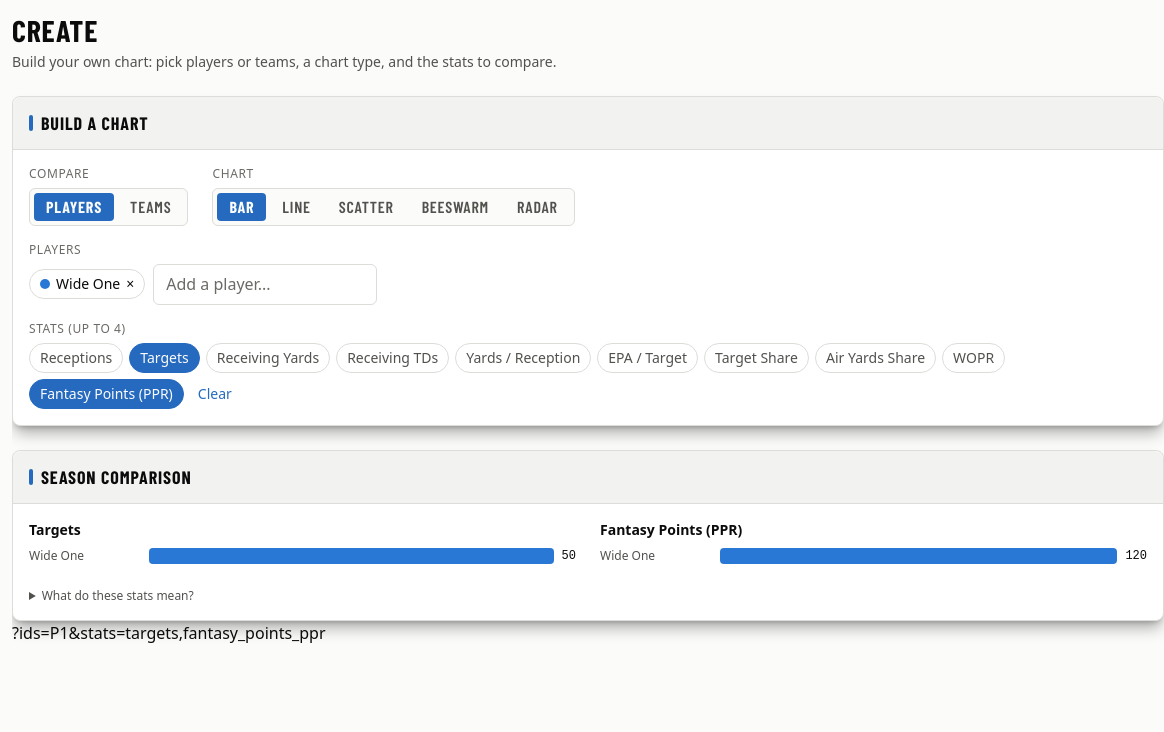
Test: CreatePage › can turn every stat off, one at a time or all at once, leaving an empty chart
This screenshot has width=1164, height=732.
Expected: the element "Targets" is shown, x1=29 y1=520 x2=576 y2=564
Click the button "Clear" at (215, 394), box x1=190 y1=380 x2=240 y2=408
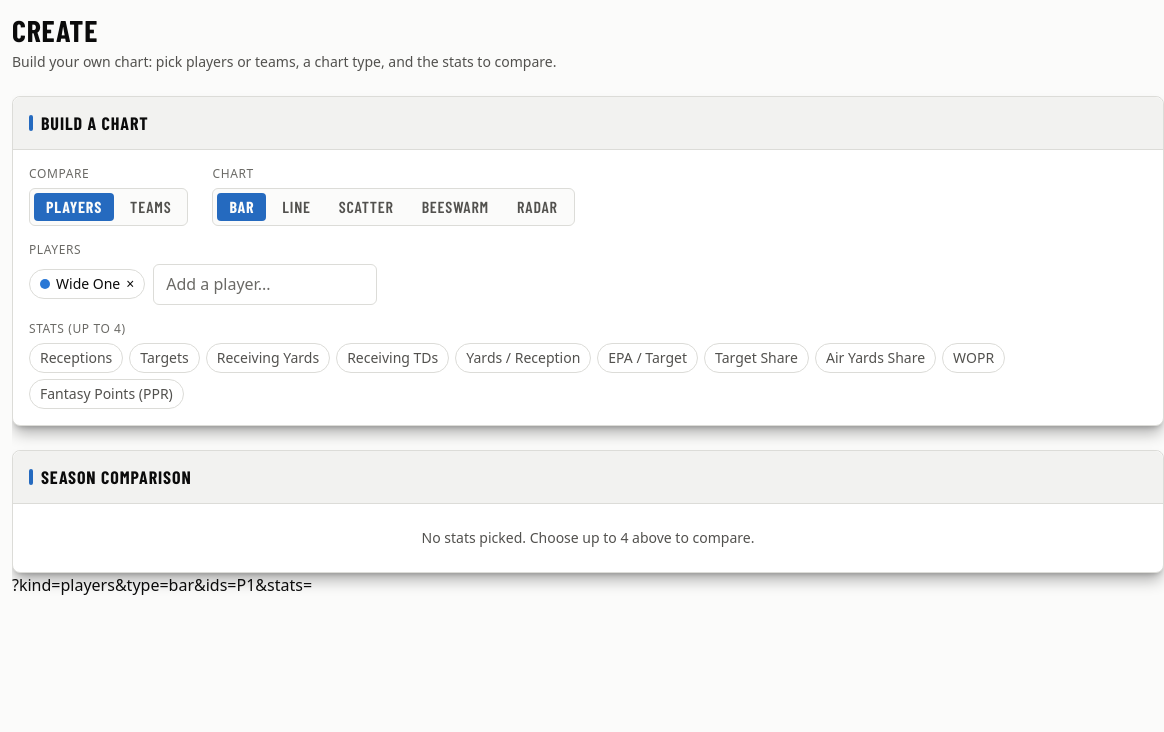
Result: the text "No stats picked. Choose up to 4 above to compare." is shown at x1=422 y1=528 x2=754 y2=547
Result: the button "Clear" is gone
Click the button "Targets" at (164, 358), box x1=129 y1=343 x2=200 y2=373
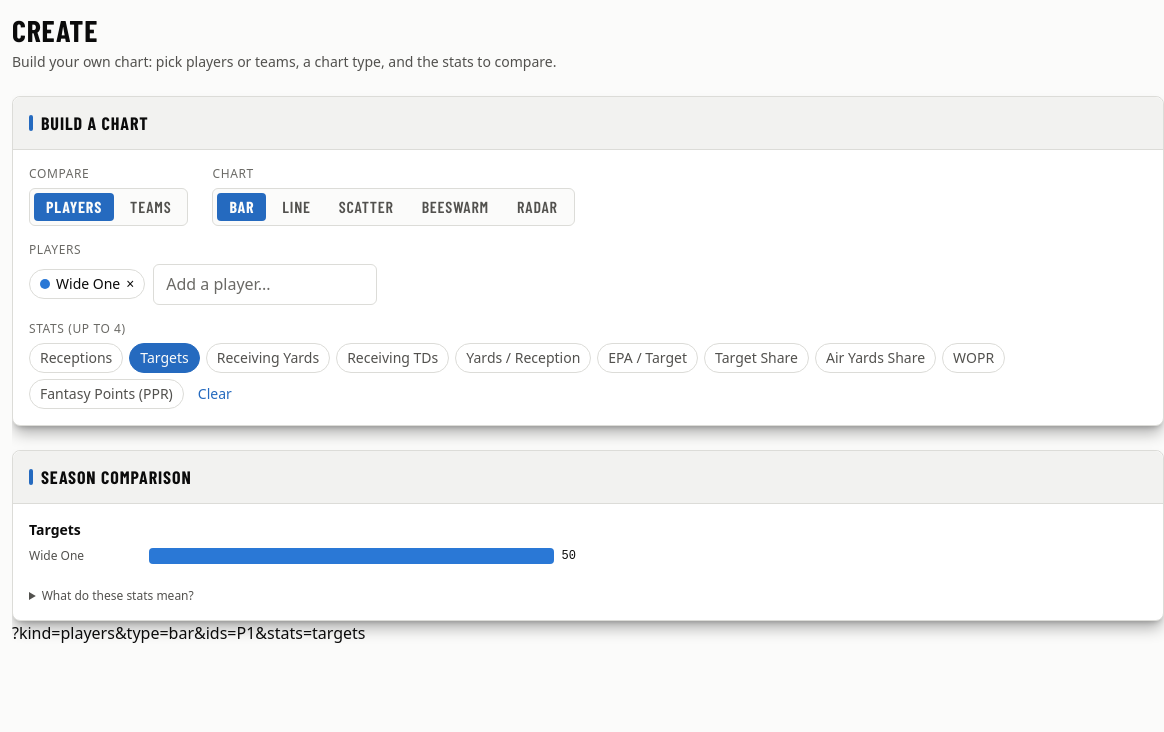
Click the button "Targets" at (164, 358), box x1=129 y1=343 x2=200 y2=373
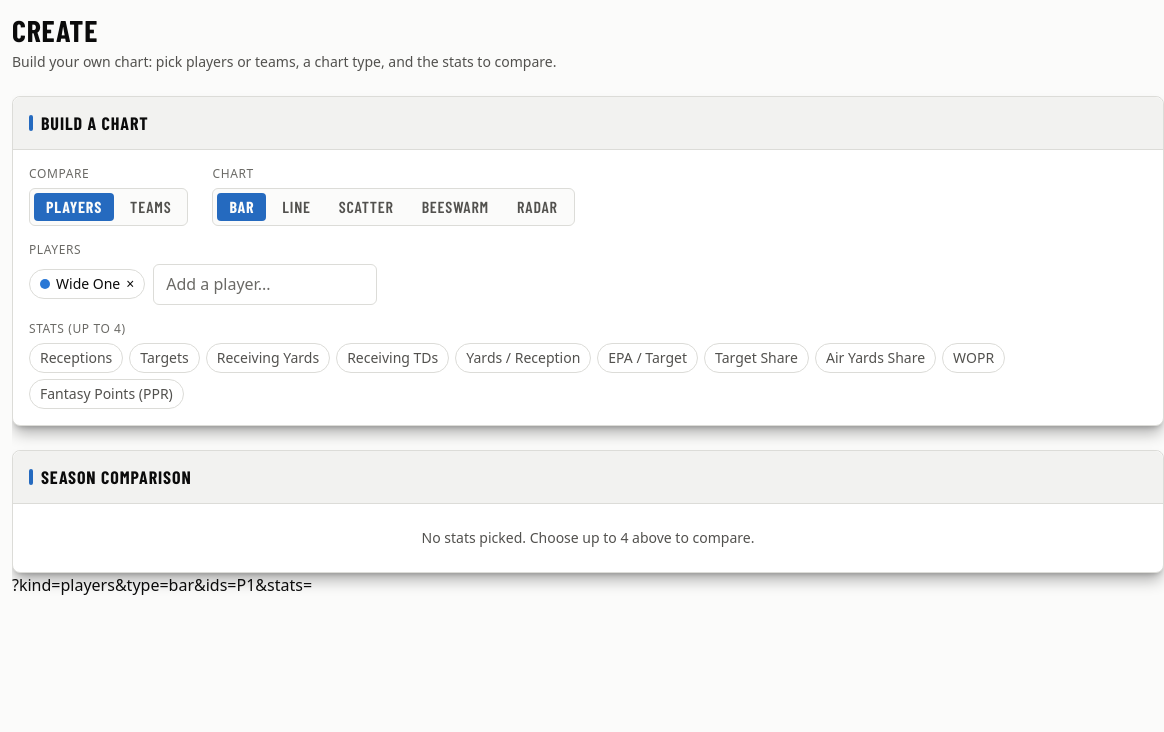
Result: the text "No stats picked. Choose up to 4 above to compare." is shown at x1=422 y1=528 x2=754 y2=547
